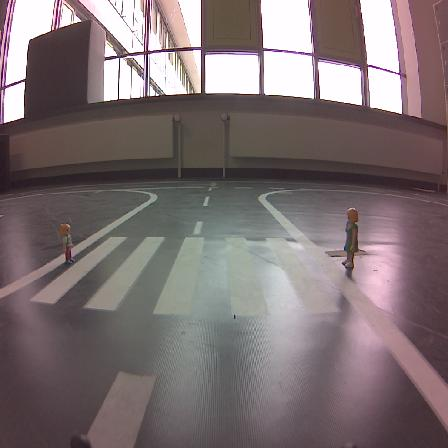CHILD: (60, 223, 74, 264)
PERSON: (342, 208, 358, 267)
